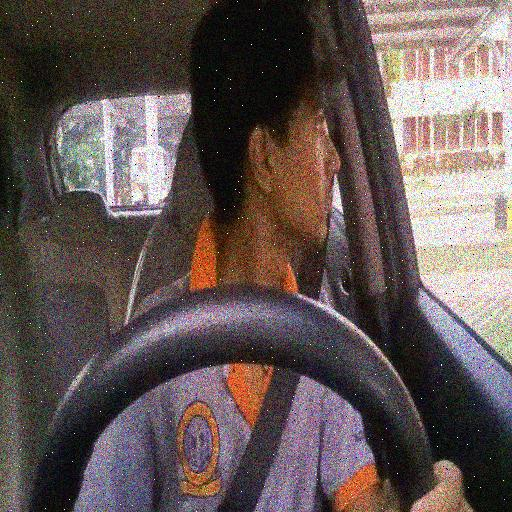Reaching_behind: (149, 0, 414, 467)
